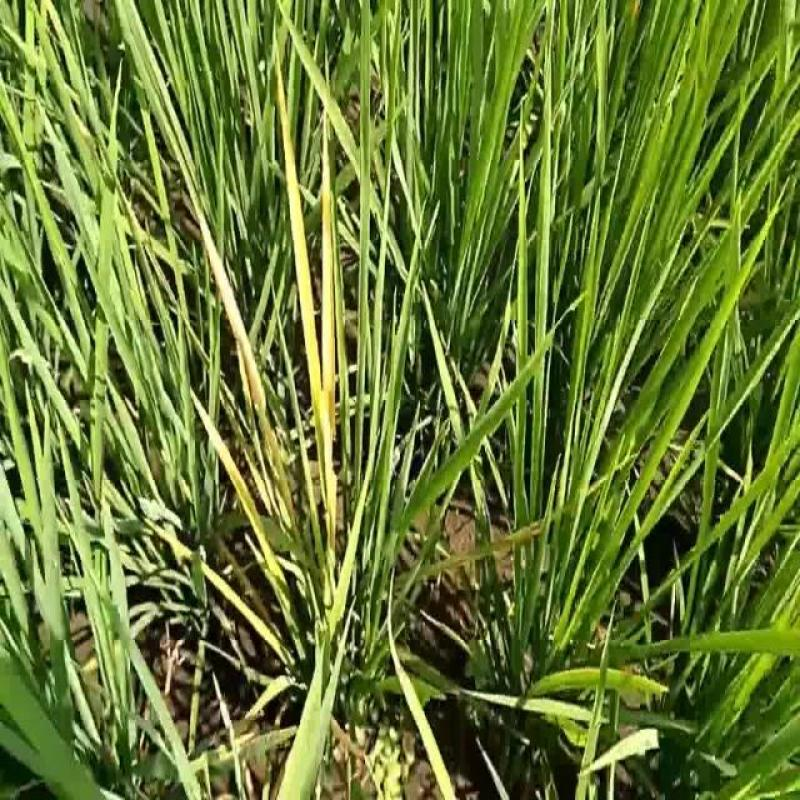Rice Tungro: (183, 156, 275, 429), (273, 36, 325, 389), (187, 381, 275, 569), (186, 546, 286, 669), (320, 43, 340, 427)
